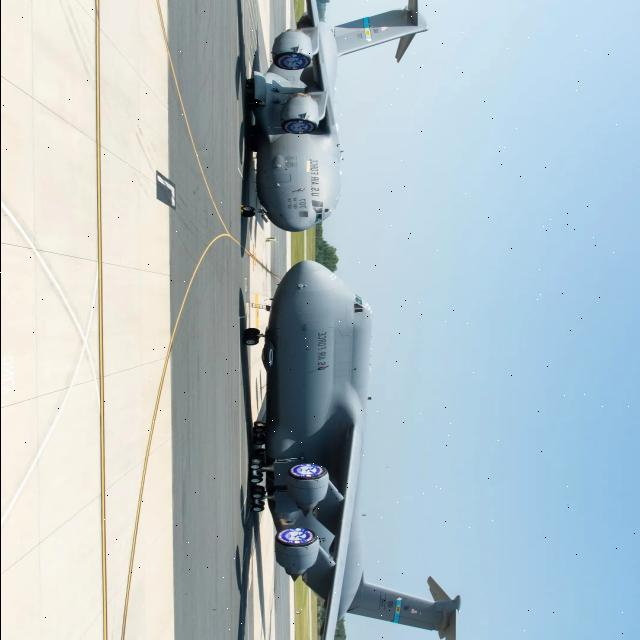C5: (222, 254, 500, 640), (179, 0, 438, 234)
